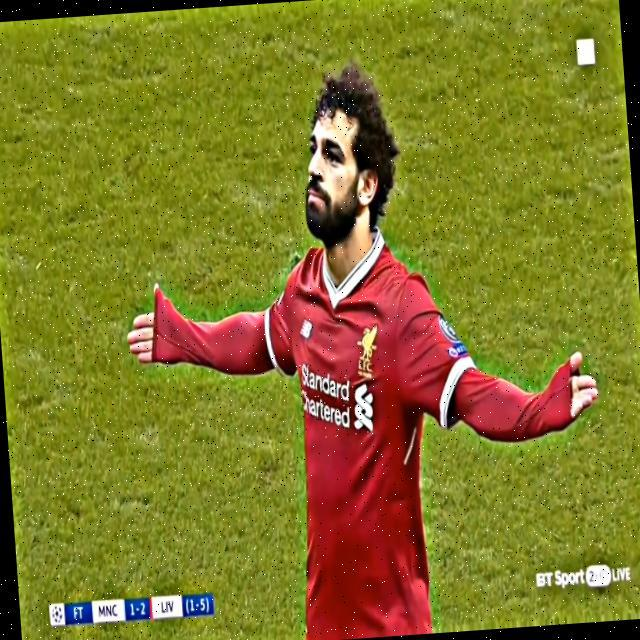Standard Chartered: (299, 359, 375, 439)
